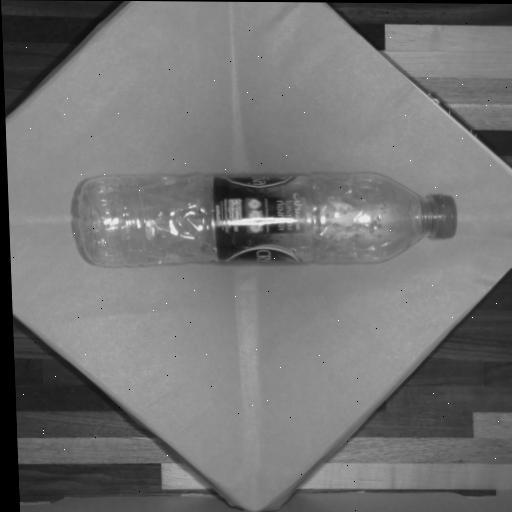bottle: (79, 175, 454, 266)
